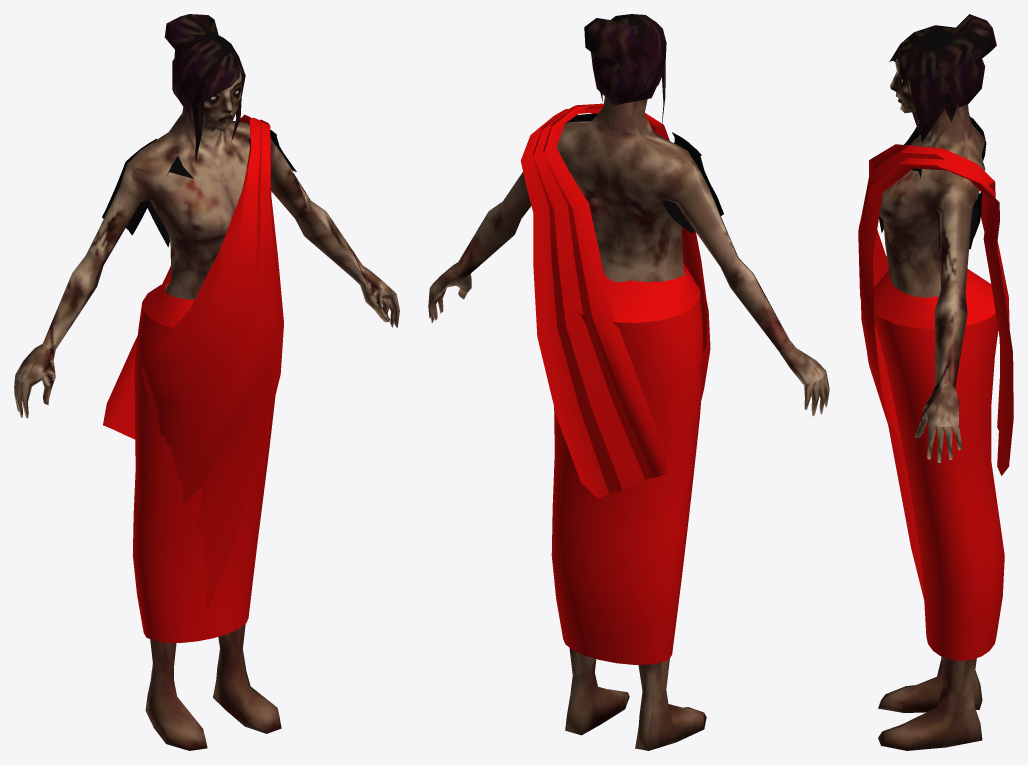
Rendered from mohini.glb.
3 views of the same model, side by side, from view 1: azimuth 30°, elevation 25°; view 2: azimuth 150°, elevation 25°; view 3: azimuth 270°, elevation 25° (orthographic). The views are drawn at different scales.
Visible parts, largest first — view 1: Female, Pallo, Saree, Blouse; view 2: Female, Saree, Pallo, Blouse; view 3: Female, Saree, Pallo, Blouse.
Boxes of the visible parts, x1,y1,x2,y2 form: Female: (14,14,399,750); Pallo: (103,114,283,614); Saree: (132,279,275,642); Blouse: (102,121,296,247); Female: (428,14,829,750); Saree: (551,264,703,664); Pallo: (520,103,710,498); Blouse: (566,113,723,232); Female: (878,14,996,750); Saree: (873,269,1004,660); Pallo: (858,144,1013,599); Blouse: (879,117,986,249).
Size of the model in its own units: 2.26 by 3.97 by 0.7934.
Materials: 3 (1 with a texture image).
